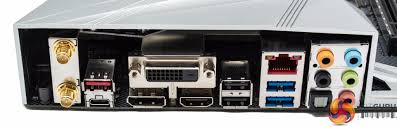Audio: (316, 49, 337, 68), (343, 49, 364, 67), (312, 70, 333, 88), (341, 69, 359, 86)
DVI: (143, 67, 202, 83)
Ethernet: (263, 51, 301, 80)
